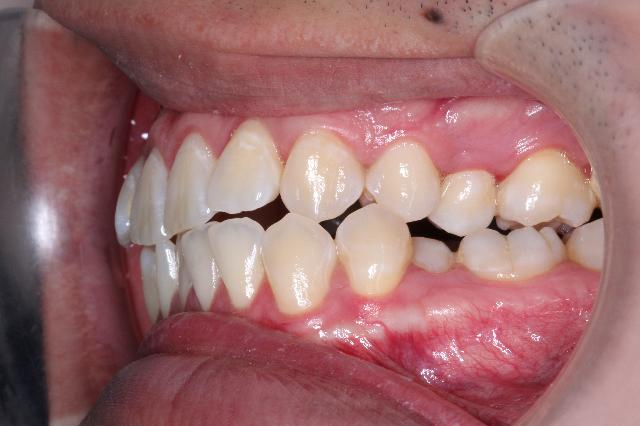canine class II 1/4: (266, 123, 412, 320)
molar class III 1/2: (458, 142, 598, 287)
